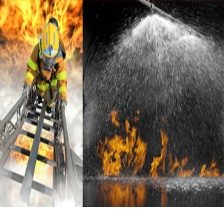fire: (92, 111, 224, 177), (3, 2, 84, 48)
